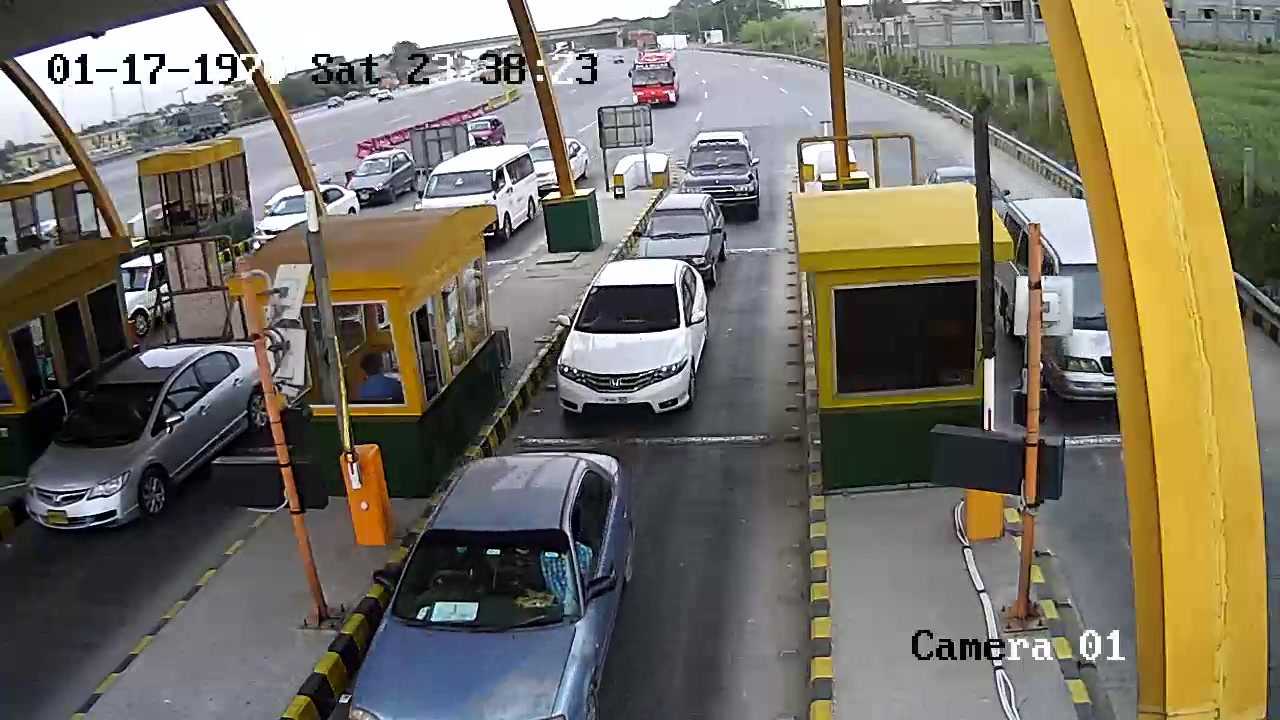F1: (538, 255, 720, 431)
